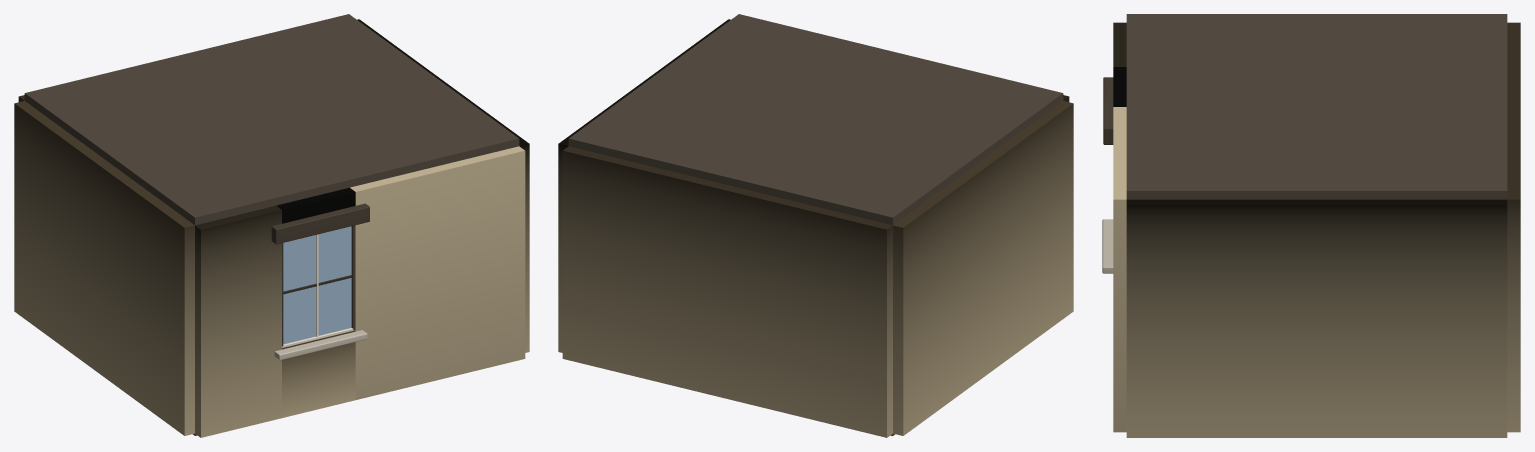
Rendered from bedroom.glb.
The picture shows the model from 3 angles, left to right: view 1: azimuth 30°, elevation 25°; view 2: azimuth 150°, elevation 25°; view 3: azimuth 270°, elevation 25°; orthographic projection. The views are drawn at different scales.
Visible parts, largest first — view 1: bedroom.plaster.5, bedroom.plaster.6, bedroom.glass.2, bedroom.stone.4, bedroom.paint.3; view 2: bedroom.plaster.5, bedroom.plaster.6; view 3: bedroom.plaster.5, bedroom.plaster.6, bedroom.stone.4.
Boxes of the visible parts, left/top/right/bottom form: bedroom.plaster.5: left=14, top=19, right=529, bottom=437; bedroom.plaster.6: left=24, top=14, right=519, bottom=225; bedroom.glass.2: left=283, top=226, right=351, bottom=344; bedroom.stone.4: left=271, top=203, right=369, bottom=360; bedroom.paint.3: left=282, top=225, right=354, bottom=347; bedroom.plaster.5: left=558, top=19, right=1073, bottom=437; bedroom.plaster.6: left=568, top=14, right=1063, bottom=225; bedroom.plaster.5: left=1113, top=22, right=1520, bottom=437; bedroom.plaster.6: left=1126, top=14, right=1507, bottom=199; bedroom.stone.4: left=1102, top=77, right=1113, bottom=273.
Bounding box in the file's own units: 4.68 × 2.84 × 4.39.
